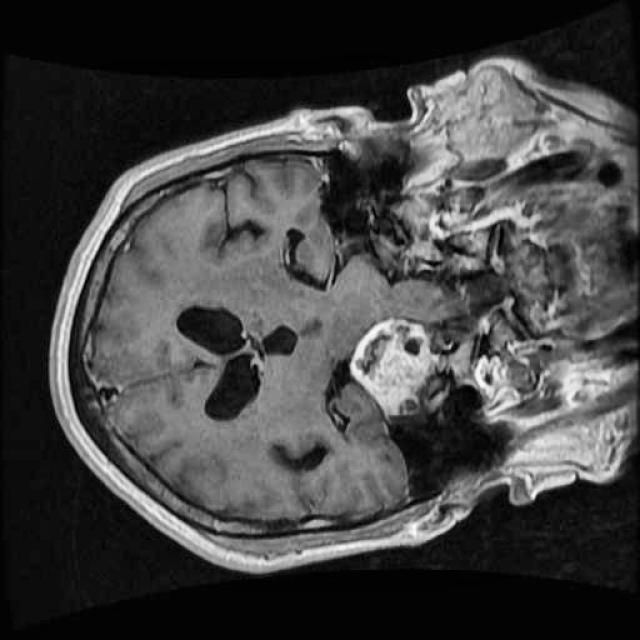Tumor: (329, 298, 471, 430)
